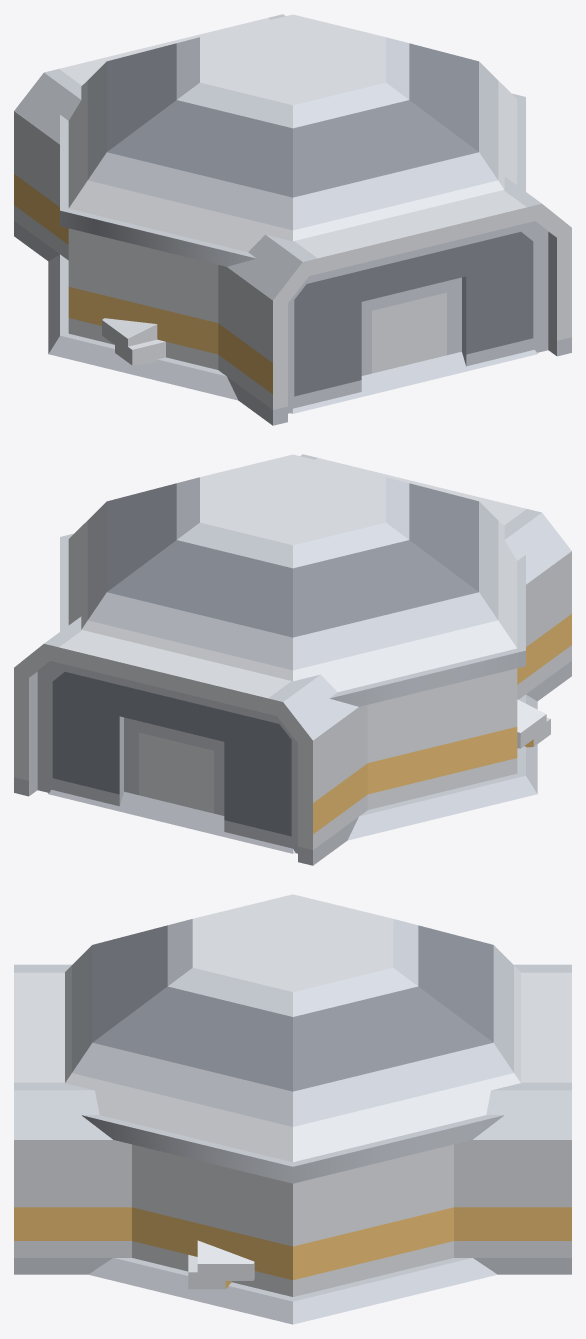
File: kitworld.glb
3 views of the same model, one above another, from view 1: azimuth 30°, elevation 25°; view 2: azimuth 150°, elevation 25°; view 3: azimuth 270°, elevation 25° (orthographic). The views are drawn at different scales.
Parts seen in each view (by area): view 1: hangar_roundA, gate, Mesh hangar_largeB, Mesh hangar_largeA, craft_speederD, craft_speederC; view 2: hangar_roundA, gate, Mesh hangar_largeB, Mesh hangar_largeA, craft_speederD; view 3: hangar_roundA, Mesh hangar_largeB, Mesh hangar_largeA, craft_speederD, craft_speederC.
Part boxes in pixels (x1,y1,x2,y2): hangar_roundA: (48, 14, 537, 413); gate: (288, 221, 548, 413); Mesh hangar_largeB: (14, 14, 571, 424); Mesh hangar_largeA: (14, 111, 571, 425); craft_speederD: (102, 318, 157, 354); craft_speederC: (115, 337, 165, 365); hangar_roundA: (48, 454, 537, 853); gate: (37, 661, 297, 853); Mesh hangar_largeB: (14, 454, 571, 864); Mesh hangar_largeA: (14, 551, 571, 865); craft_speederD: (517, 699, 546, 748); hangar_roundA: (65, 894, 520, 1324); Mesh hangar_largeB: (14, 964, 571, 1274); Mesh hangar_largeA: (14, 1140, 571, 1274); craft_speederD: (197, 1240, 254, 1280); craft_speederC: (188, 1255, 231, 1289).
Size of the model in its own units: 3.27 by 1.5 by 3.
